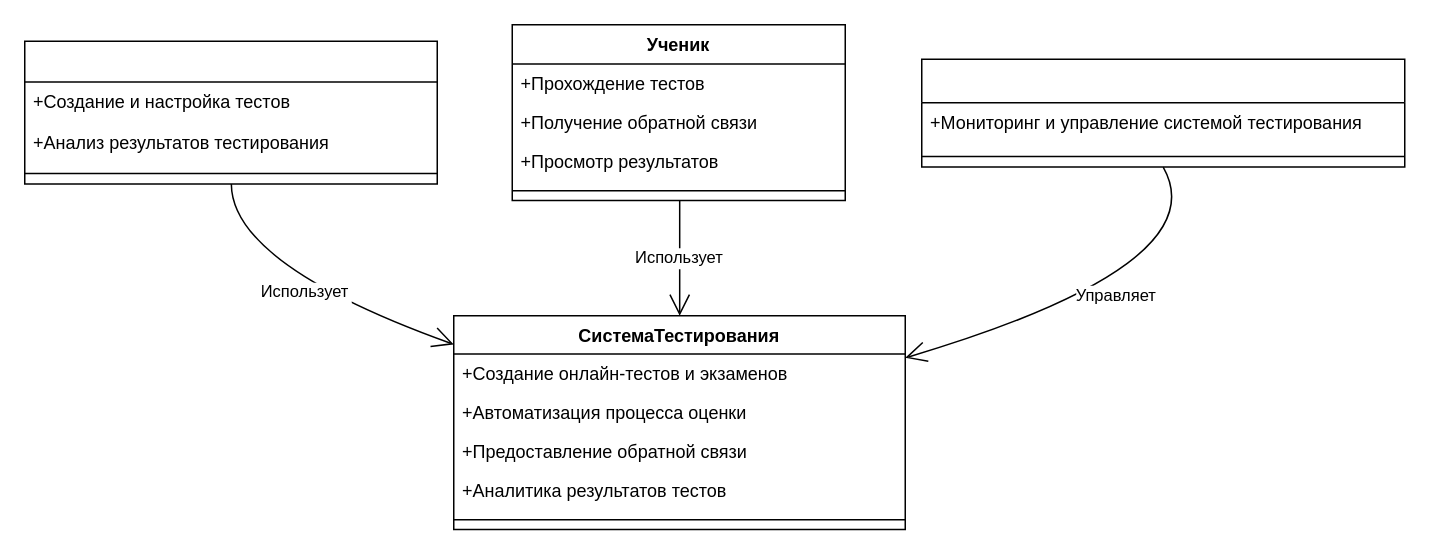
The diagram is 1430 pixels wide and 554 high, and some of its shapes have lost their labels. The box of each missing label's shape, as (x1, y1, x2, y2) in pixels:
Администратор: (920, 58, 1405, 167)
Учитель: (23, 40, 437, 184)
